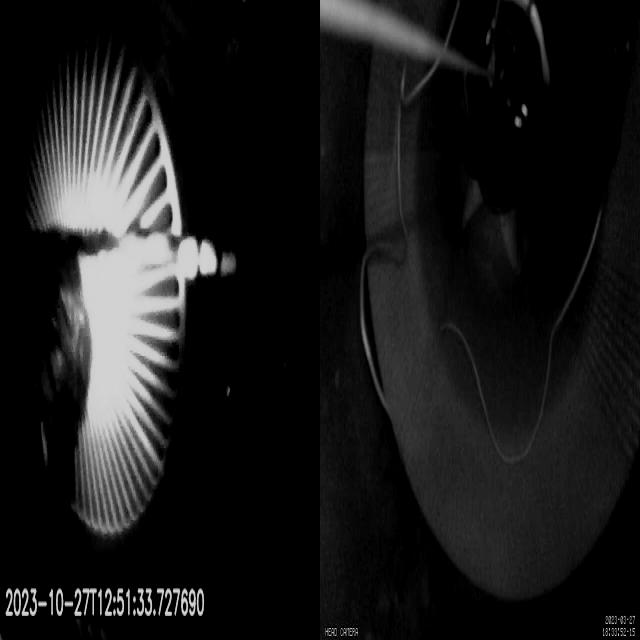white-dots: (178, 238, 236, 281)
